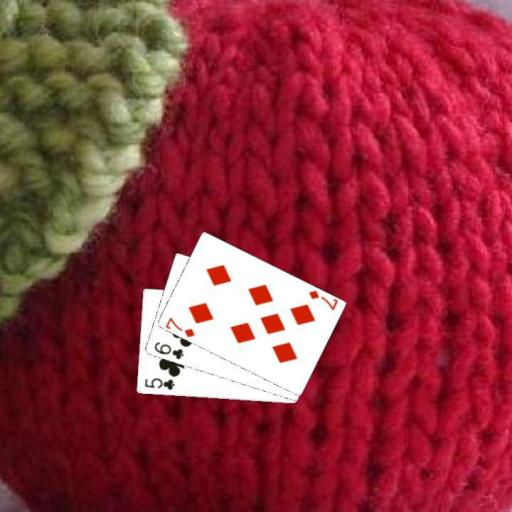5C: (141, 376, 176, 391)
6C: (151, 339, 185, 362)
7D: (163, 315, 196, 340), (305, 288, 339, 312)
